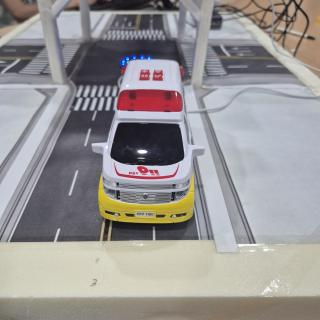Ambulance: (92, 59, 204, 223)
